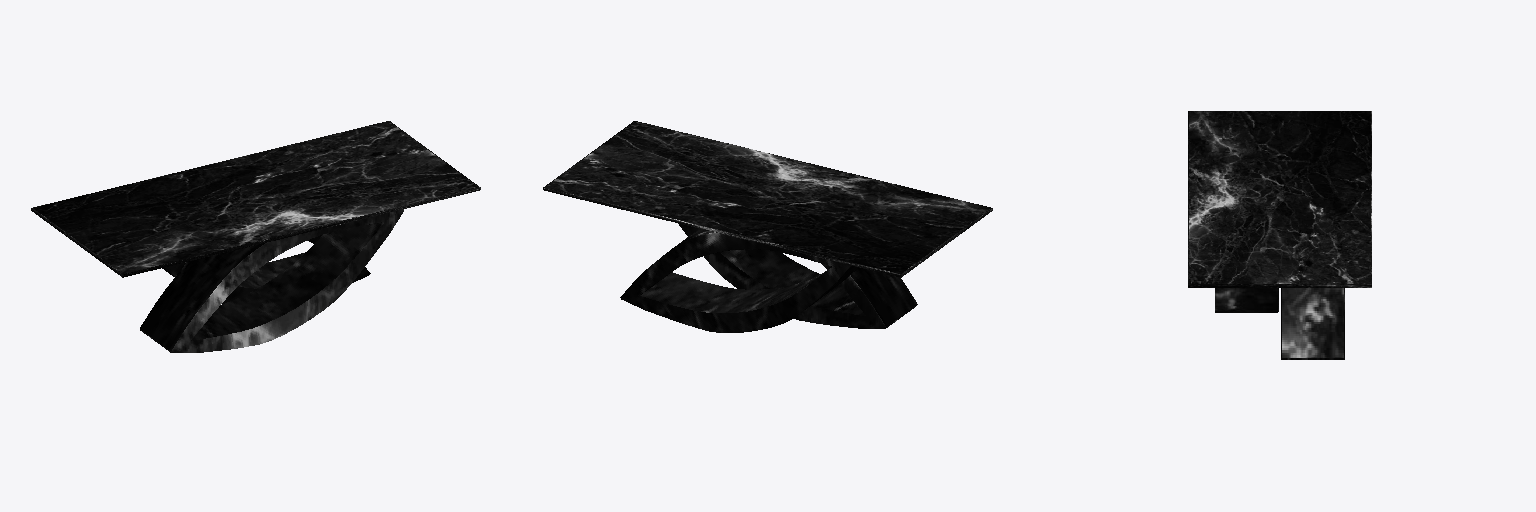
3 renders of one model, left to right at view 1: azimuth 30°, elevation 25°; view 2: azimuth 150°, elevation 25°; view 3: azimuth 270°, elevation 25°, orthographic.
Visible parts, largest first — view 1: uploads_files_865128_Mesa:Glass, uploads_files_865128_Mesa:Table_001, uploads_files_865128_Mesa:Table_002; view 2: uploads_files_865128_Mesa:Glass, uploads_files_865128_Mesa:Table_002, uploads_files_865128_Mesa:Table_001; view 3: uploads_files_865128_Mesa:Glass, uploads_files_865128_Mesa:Table_002, uploads_files_865128_Mesa:Table_001.
Boxes of the visible parts, box(x1,y1,x2,y2) form: uploads_files_865128_Mesa:Glass: box(31, 121, 480, 277); uploads_files_865128_Mesa:Table_001: box(140, 209, 403, 352); uploads_files_865128_Mesa:Table_002: box(162, 235, 370, 303); uploads_files_865128_Mesa:Glass: box(543, 121, 992, 277); uploads_files_865128_Mesa:Table_002: box(620, 229, 858, 332); uploads_files_865128_Mesa:Table_001: box(678, 223, 917, 328); uploads_files_865128_Mesa:Glass: box(1188, 111, 1371, 287); uploads_files_865128_Mesa:Table_002: box(1281, 288, 1344, 359); uploads_files_865128_Mesa:Table_001: box(1215, 288, 1278, 312).
Size of the model in its own units: 47.51 by 14.8 by 21.14.
Materials: 1 (1 with a texture image).